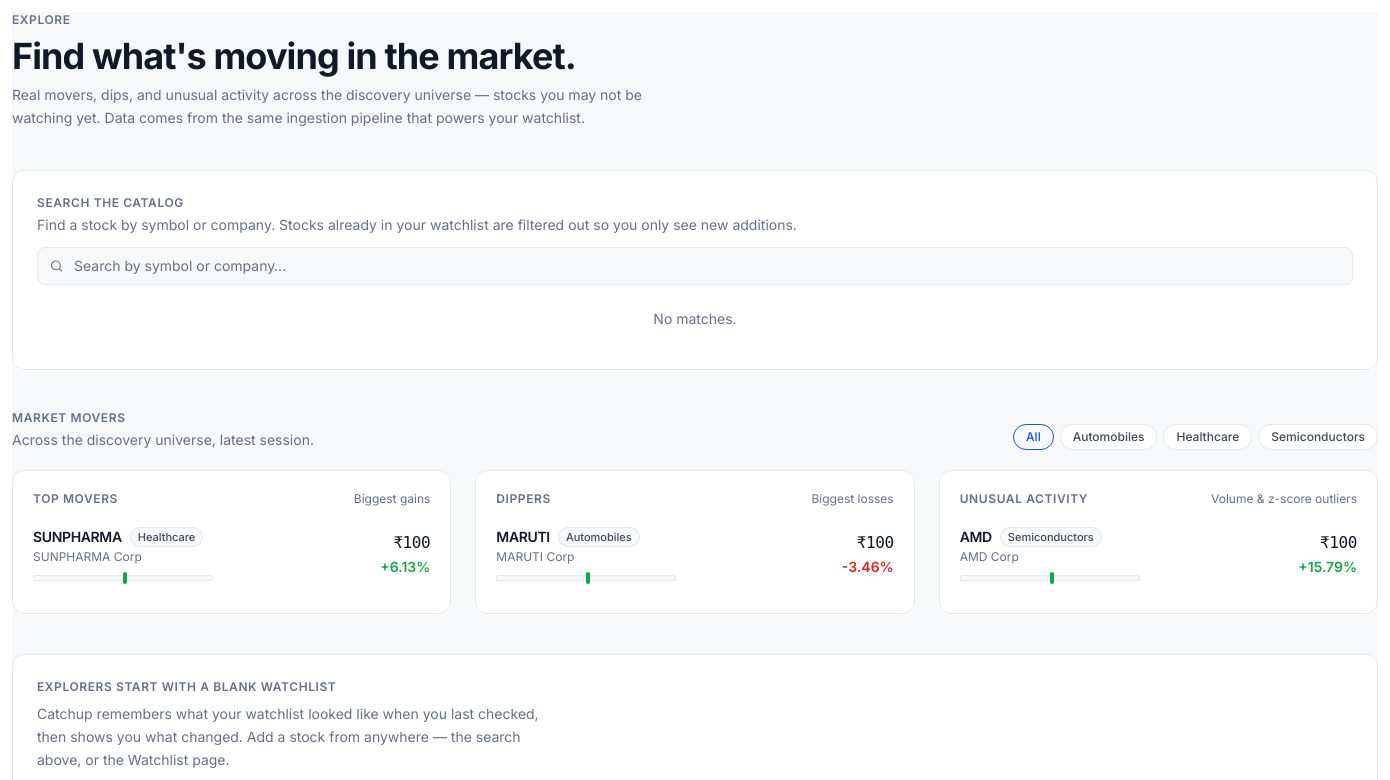
Test: ExplorePage › refetches the feed for a sector so the backend query is genuinely scoped
This screenshot has width=1390, height=780.
Expected: the text "SUNPHARMA" is shown, [33,527,122,547]
Click the button "Healthcare". click: (1208,436)
box: [1164,424,1252,450]
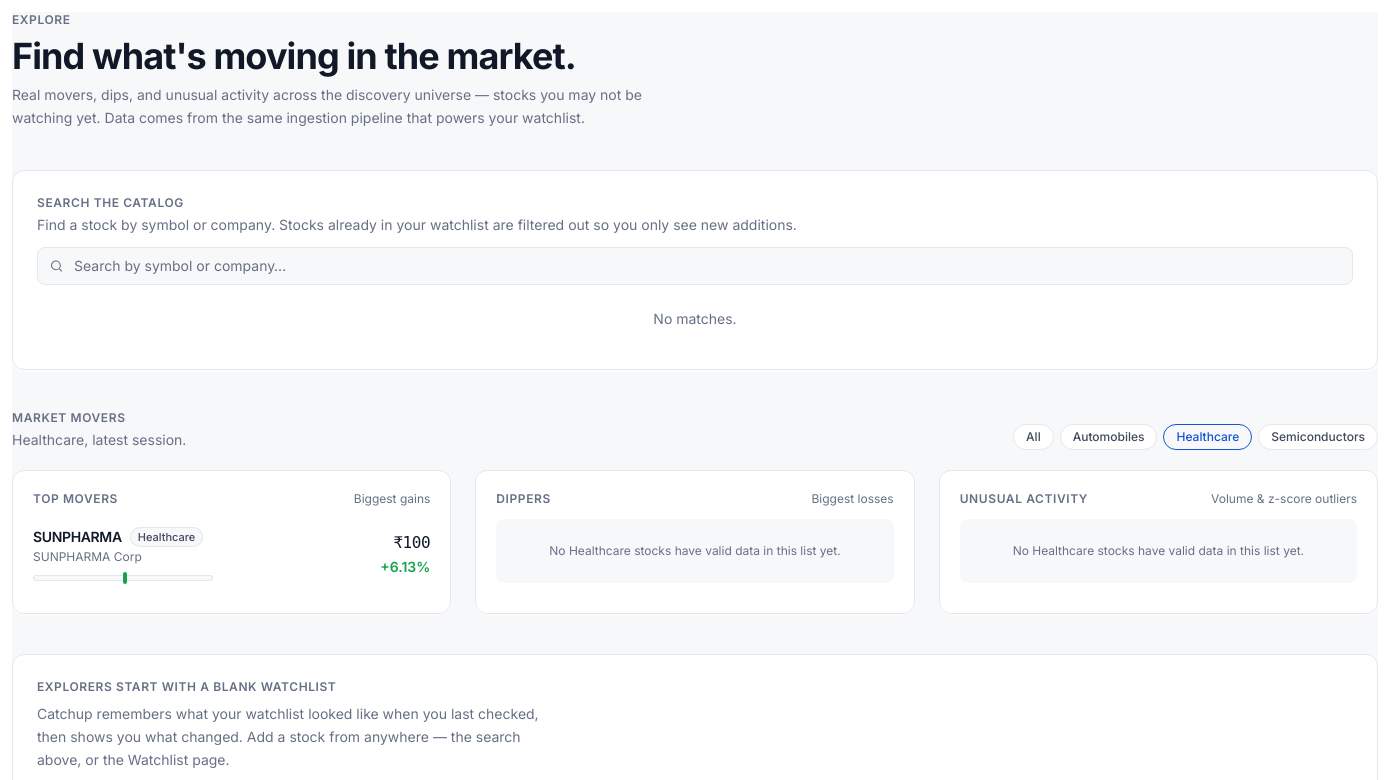
Expected: the text "SUNPHARMA" is shown, [33,527,122,547]
Expected: the link "MARUTI" is gone
